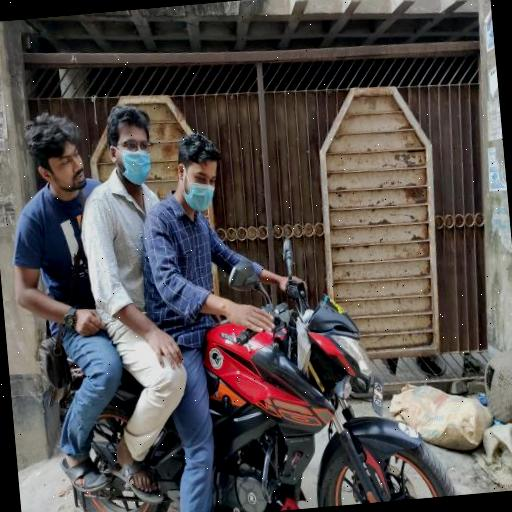no helmet: (160, 112, 235, 216)
triple riding: (4, 57, 456, 512)
